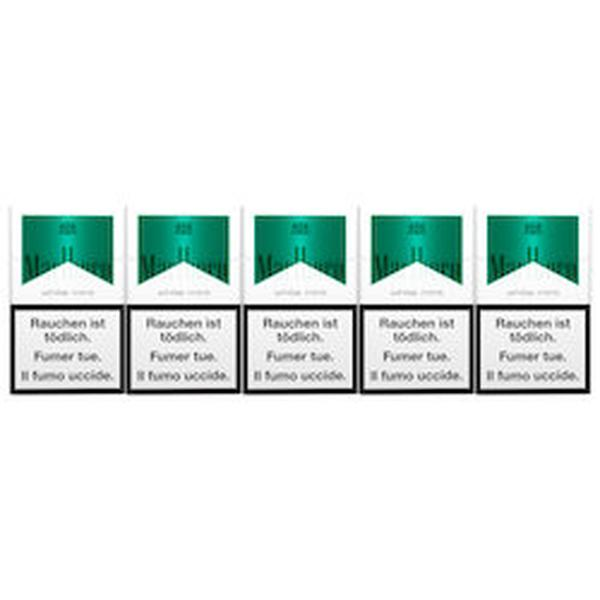marlboro_mentol: (240, 214, 360, 394), (123, 212, 240, 396), (473, 214, 590, 392), (10, 211, 122, 392), (360, 214, 472, 394)
